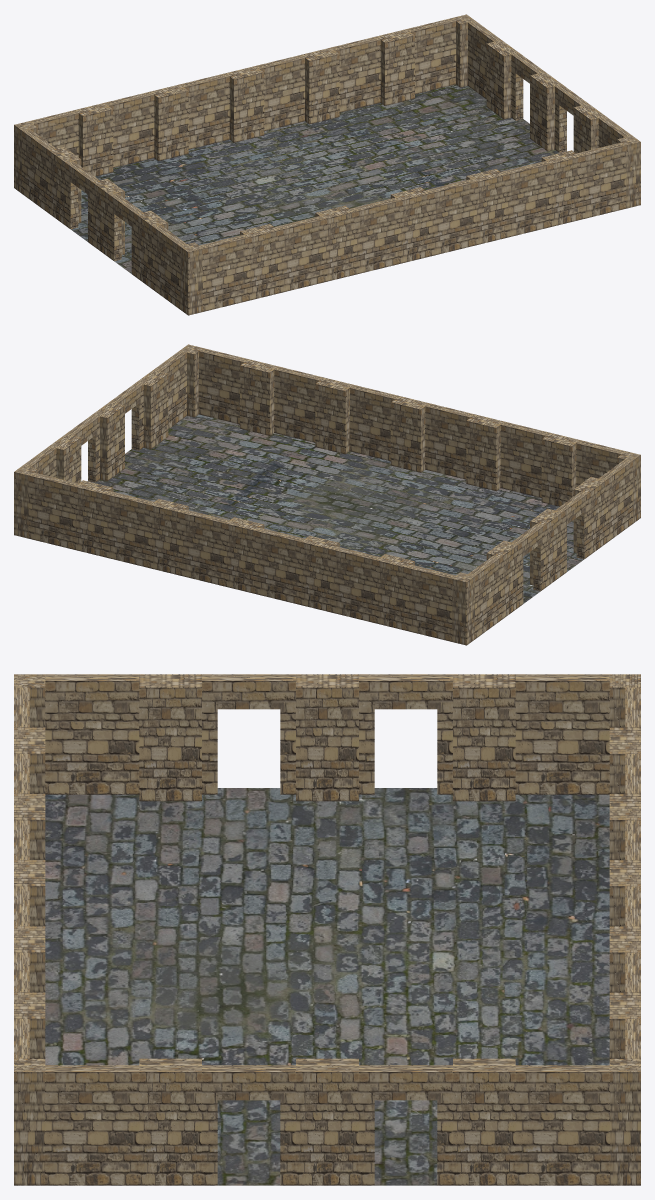
Rendered from cooridor.fbx.
The picture shows the model from 3 angles, top to bottom: view 1: azimuth 30°, elevation 25°; view 2: azimuth 150°, elevation 25°; view 3: azimuth 270°, elevation 25°; orthographic projection. The views are drawn at different scales.
Parts seen in each view (by area): view 1: Plane, Cube_31, Cube_15, Cube_4_2, Cube_16, Cube_11_2, Cube_29, Cube_6_2, Cube_1, Cube_21, Cube_23, Cube_14 (+29 smaller); view 2: Plane, Cube_23, Cube_14, Cube_14_2, Cube_6_2, Cube_1, Cube_21, Cube_16, Cube_11_2, Cube_29, Cube_31, Cube_15 (+29 smaller); view 3: Plane, Cube_26, Cube_9_2, Cube_8_2, Cube_15_2, Cube_27, Cube_25, Cube_19, Cube_17, Cube_10_2, Cube_7_2, Cube (+17 smaller).
Part boxes in pixels (x1,y1,x2,y2): Plane: [71, 84, 566, 273]; Cube_31: [576, 142, 625, 219]; Cube_15: [426, 179, 474, 256]; Cube_4_2: [199, 234, 248, 311]; Cube_16: [274, 216, 323, 293]; Cube_11_2: [350, 198, 399, 274]; Cube_29: [501, 161, 550, 237]; Cube_6_2: [180, 73, 229, 149]; Cube_1: [105, 91, 154, 167]; Cube_21: [331, 36, 380, 112]; Cube_23: [406, 18, 455, 94]; Cube_14: [256, 55, 304, 130]; Plane: [88, 414, 583, 603]; Cube_23: [29, 472, 78, 549]; Cube_14: [180, 509, 228, 586]; Cube_14_2: [406, 564, 455, 641]; Cube_6_2: [255, 528, 304, 604]; Cube_1: [331, 546, 380, 623]; Cube_21: [104, 491, 153, 567]; Cube_16: [500, 421, 549, 497]; Cube_11_2: [425, 403, 474, 479]; Cube_29: [274, 366, 323, 442]; Cube_31: [199, 348, 248, 424]; Cube_15: [350, 385, 398, 460]; Plane: [45, 788, 609, 1185]; Cube_26: [515, 1065, 609, 1185]; Cube_9_2: [45, 674, 139, 794]; Cube_8_2: [45, 1065, 139, 1185]; Cube_15_2: [515, 674, 609, 794]; Cube_27: [453, 1058, 515, 1185]; Cube_25: [296, 1058, 358, 1185]; Cube_19: [139, 674, 201, 801]; Cube_17: [296, 674, 358, 801]; Cube_10_2: [139, 1058, 201, 1185]; Cube_7_2: [453, 674, 515, 801]; Cube: [202, 1065, 295, 1185].
Bounding box in the file's own units: 60 × 8 × 40.
Materials: 2 (2 with a texture image).
